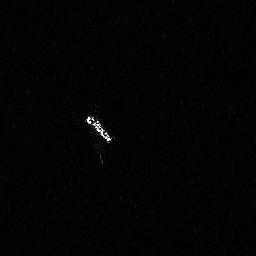ship: (85, 113, 113, 146)
